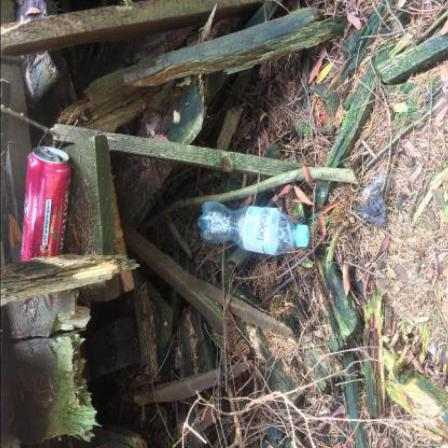Bottle: (199, 203, 310, 257)
Bottle cap: (299, 226, 310, 249)
Can: (21, 148, 72, 263)
Pop tab: (41, 149, 57, 160)
